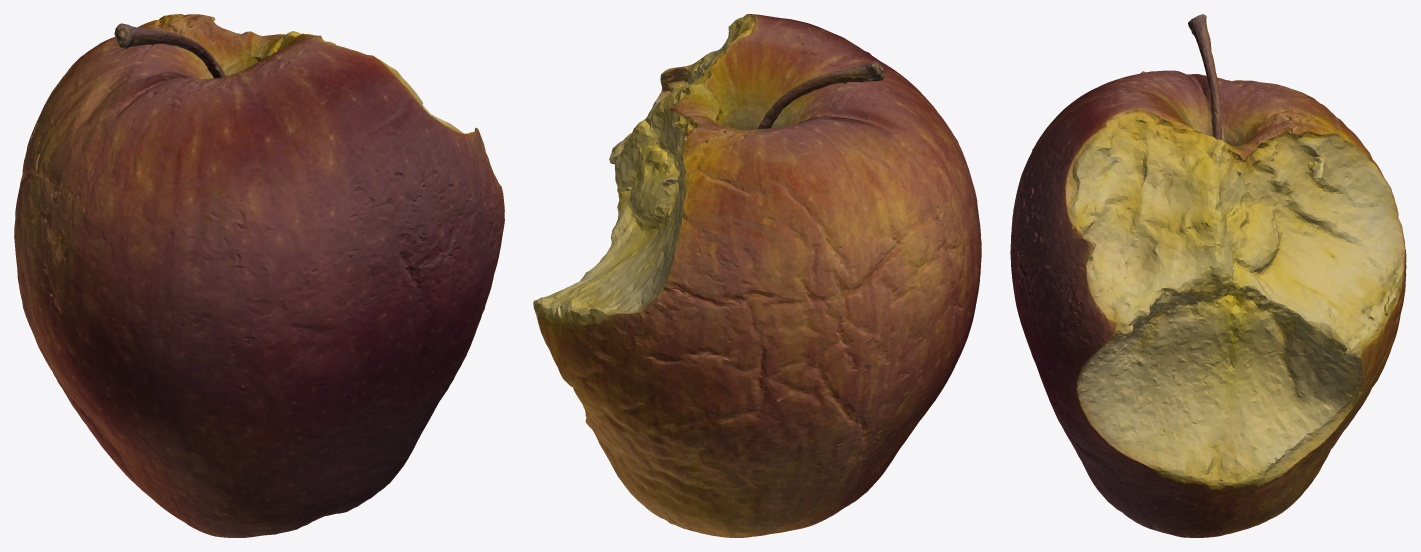
The picture shows the model from 3 angles, left to right: view 1: azimuth 30°, elevation 25°; view 2: azimuth 150°, elevation 25°; view 3: azimuth 270°, elevation 25°; orthographic projection. The views are drawn at different scales.
Visible parts, largest first — view 1: Apple_03_Apple_3_u1_v1_0; view 2: Apple_03_Apple_3_u1_v1_0; view 3: Apple_03_Apple_3_u1_v1_0.
Boxes of the visible parts, x1,y1,x2,y2 form: Apple_03_Apple_3_u1_v1_0: [14, 14, 504, 537]; Apple_03_Apple_3_u1_v1_0: [533, 14, 981, 537]; Apple_03_Apple_3_u1_v1_0: [1010, 14, 1406, 537].
Size of the model in its own units: 20.32 by 23.94 by 20.05.
1 material, 1 textured.
